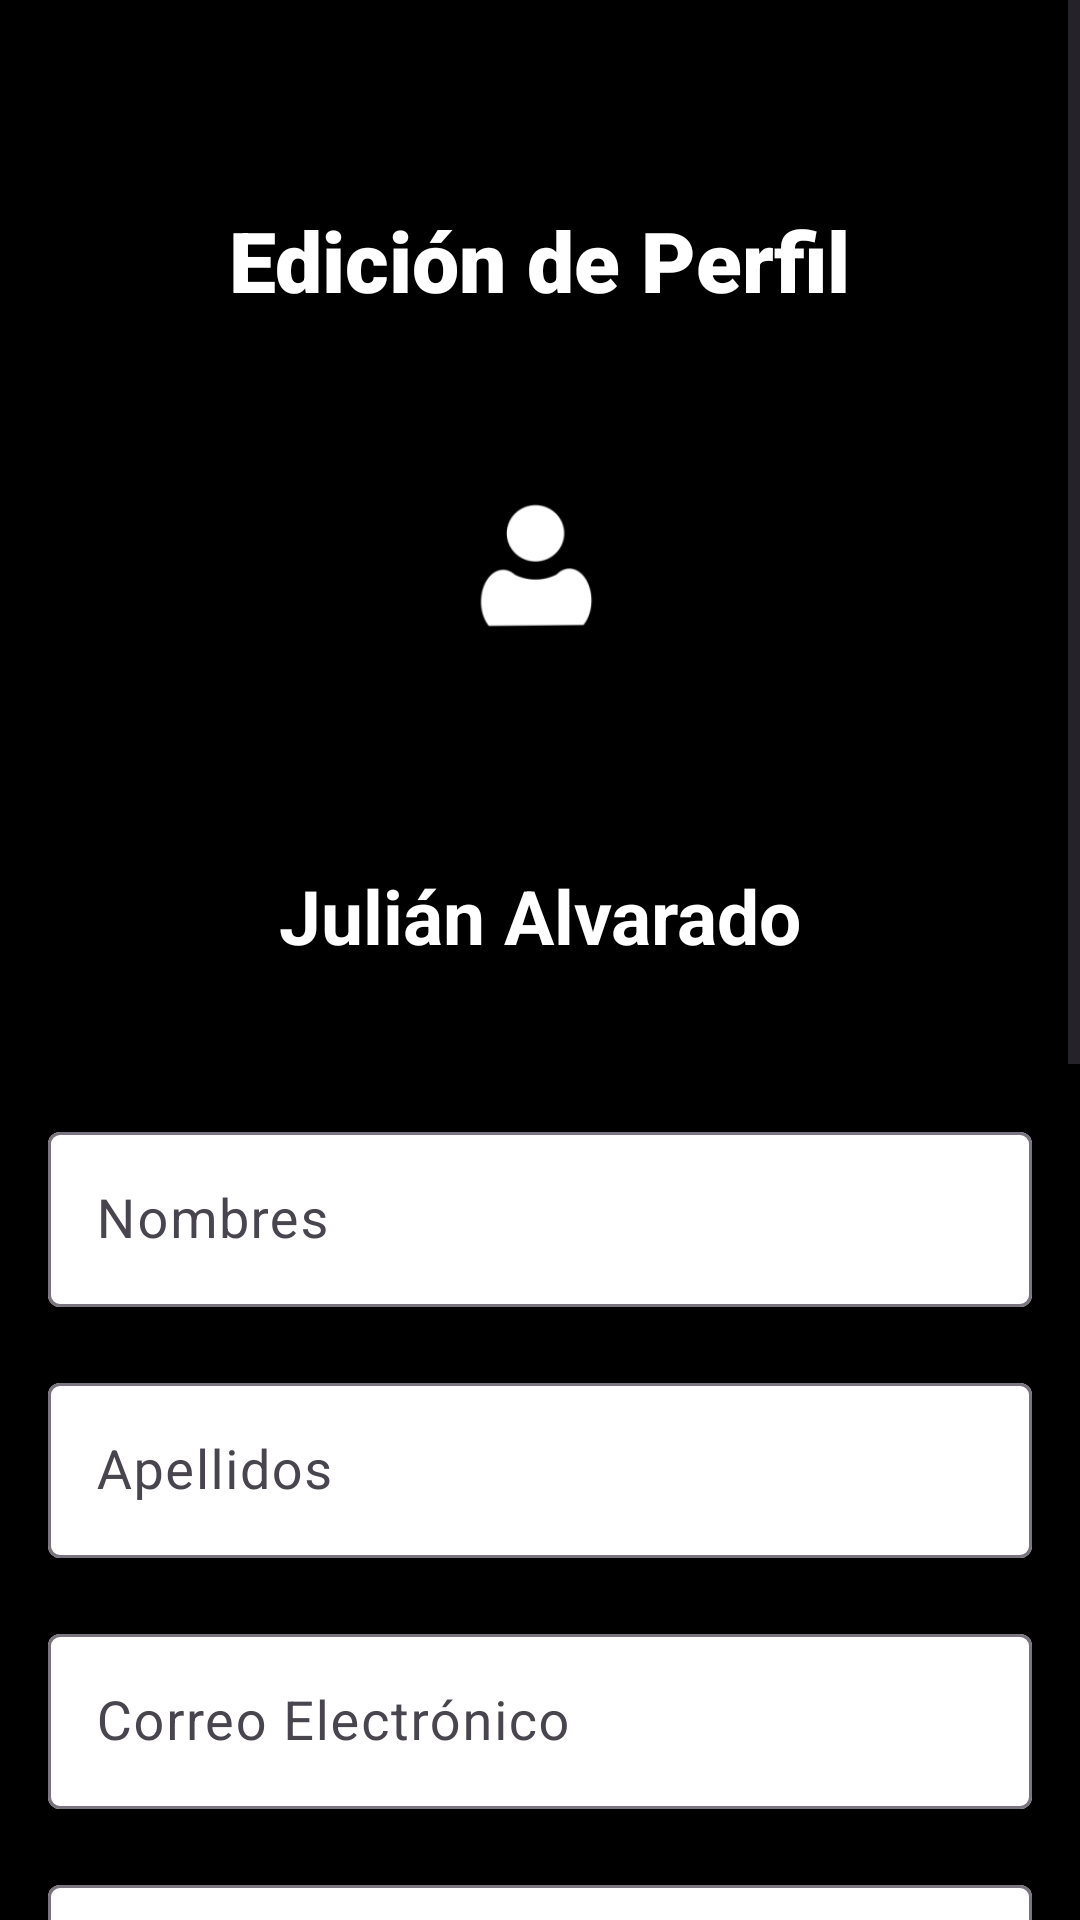

Where icons sit on this 1080px×1920px app screen, as (x1, y1, x2, y2):
Imagen de perfil: (480, 504, 592, 627)
